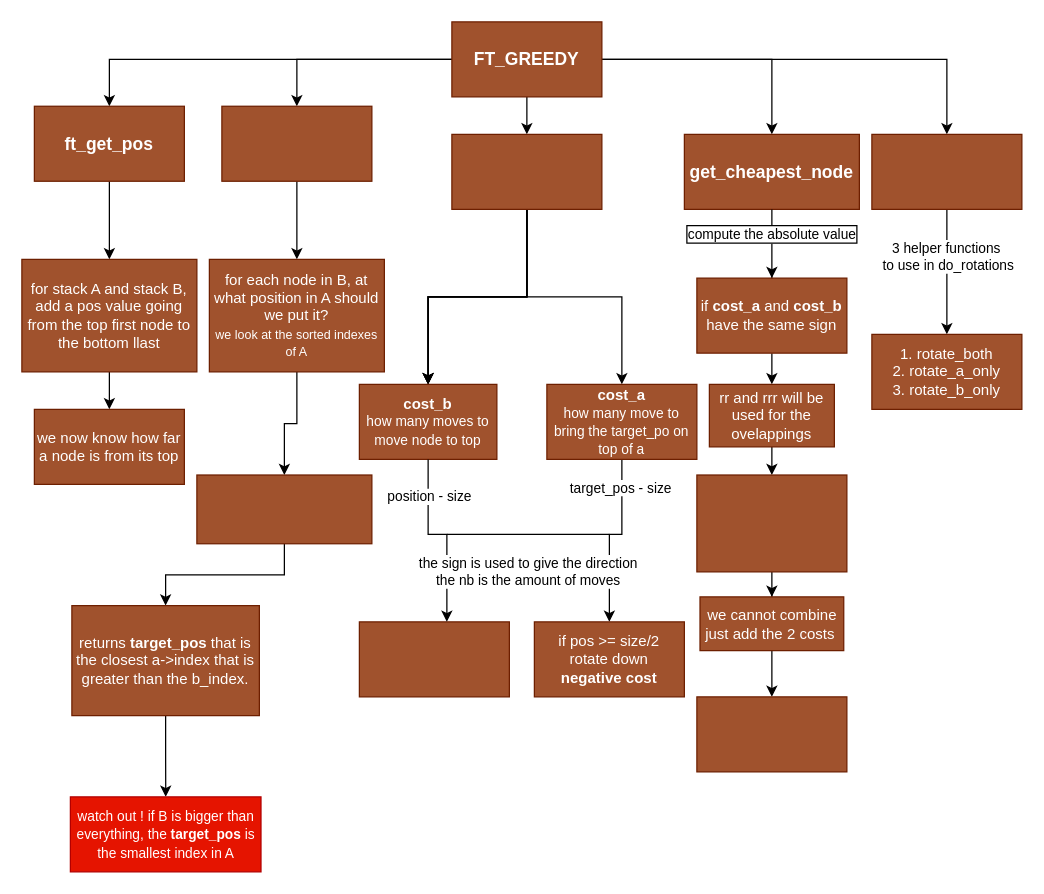
Image size: 1044x894. Some labels were removed from this diagram. The box of each missing label's shape, as (x1, y1, x2, y2) in pixels:
do_rotations: (871, 133, 1022, 209)
else if cost_a and cost_b dont have the same sign (a going up and b going down): (696, 474, 847, 572)
find_target_pos_in_a: (196, 474, 372, 544)
if pos <= size/2 rotate up positive cost: (358, 621, 509, 697)
now get the best cost, meaning the smallest: (696, 696, 847, 772)
set_costs: (451, 133, 602, 209)
set_target: (221, 105, 372, 181)
